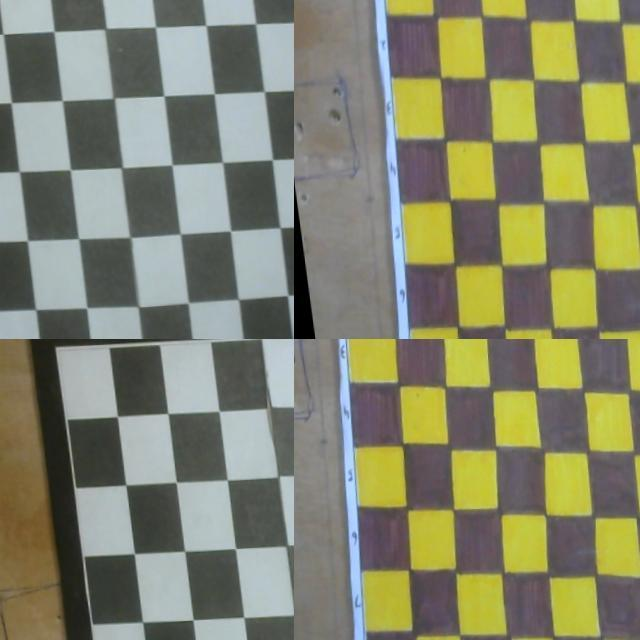chess-table-corners: (53, 344, 59, 352), (333, 339, 338, 343), (279, 0, 284, 3), (377, 0, 381, 3)
